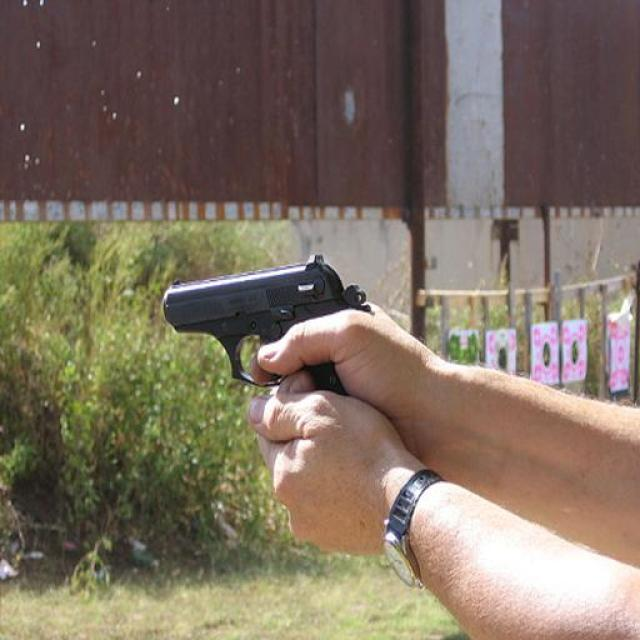pistol: (163, 254, 374, 400)
